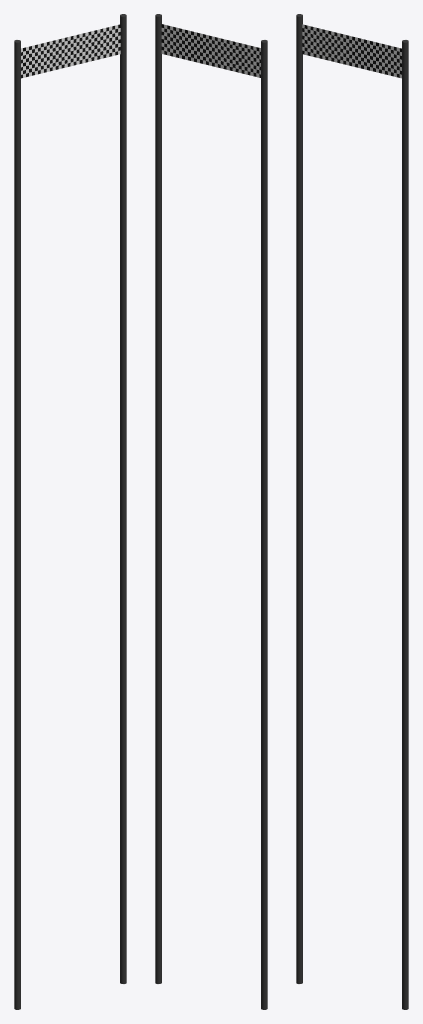
File: finishLine.fbx
3 views of the same model, side by side, from view 1: azimuth 30°, elevation 25°; view 2: azimuth 150°, elevation 25°; view 3: azimuth 330°, elevation 25° (orthographic).
Visible parts, largest first — view 1: Cylinder_1, Cylinder, Plane; view 2: Cylinder_1, Cylinder, Plane; view 3: Cylinder_1, Cylinder, Plane.
Part boxes in pixels (x1=…): Cylinder_1: x1=14, y1=40, x2=20, y2=1009; Cylinder: x1=120, y1=14, x2=126, y2=983; Plane: x1=21, y1=24, x2=120, y2=78; Cylinder_1: x1=261, y1=40, x2=267, y2=1009; Cylinder: x1=155, y1=14, x2=161, y2=983; Plane: x1=161, y1=24, x2=260, y2=77; Cylinder_1: x1=296, y1=14, x2=302, y2=983; Cylinder: x1=402, y1=40, x2=408, y2=1009; Plane: x1=302, y1=24, x2=401, y2=78.
Bounding box in the file's own units: 1562 × 12923 × 78.62.
Materials: 2 (1 with a texture image).
